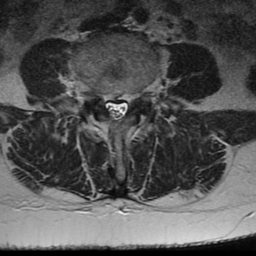CCS_stenosis: (112, 81, 120, 131)
LFS_stenosis: (130, 81, 139, 113)
LLS_normal: (120, 82, 130, 123)
RFS_stenosis: (94, 80, 103, 113)
RLS_normal: (103, 82, 112, 123)
